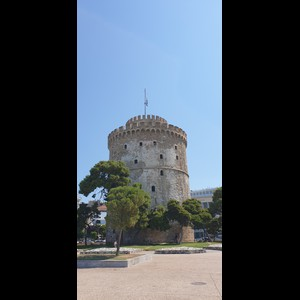White Tower: (103, 88, 196, 247)
